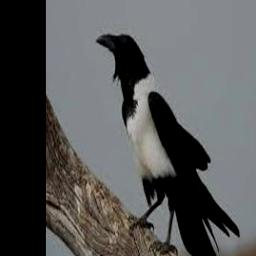Crow: (95, 33, 241, 256)
